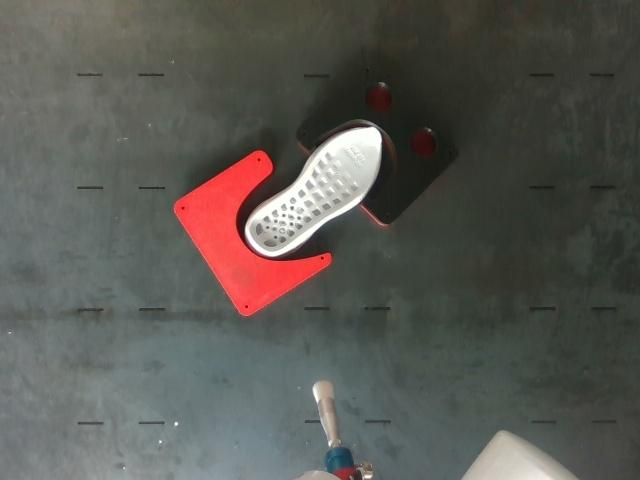shoes: (249, 129, 381, 252)
